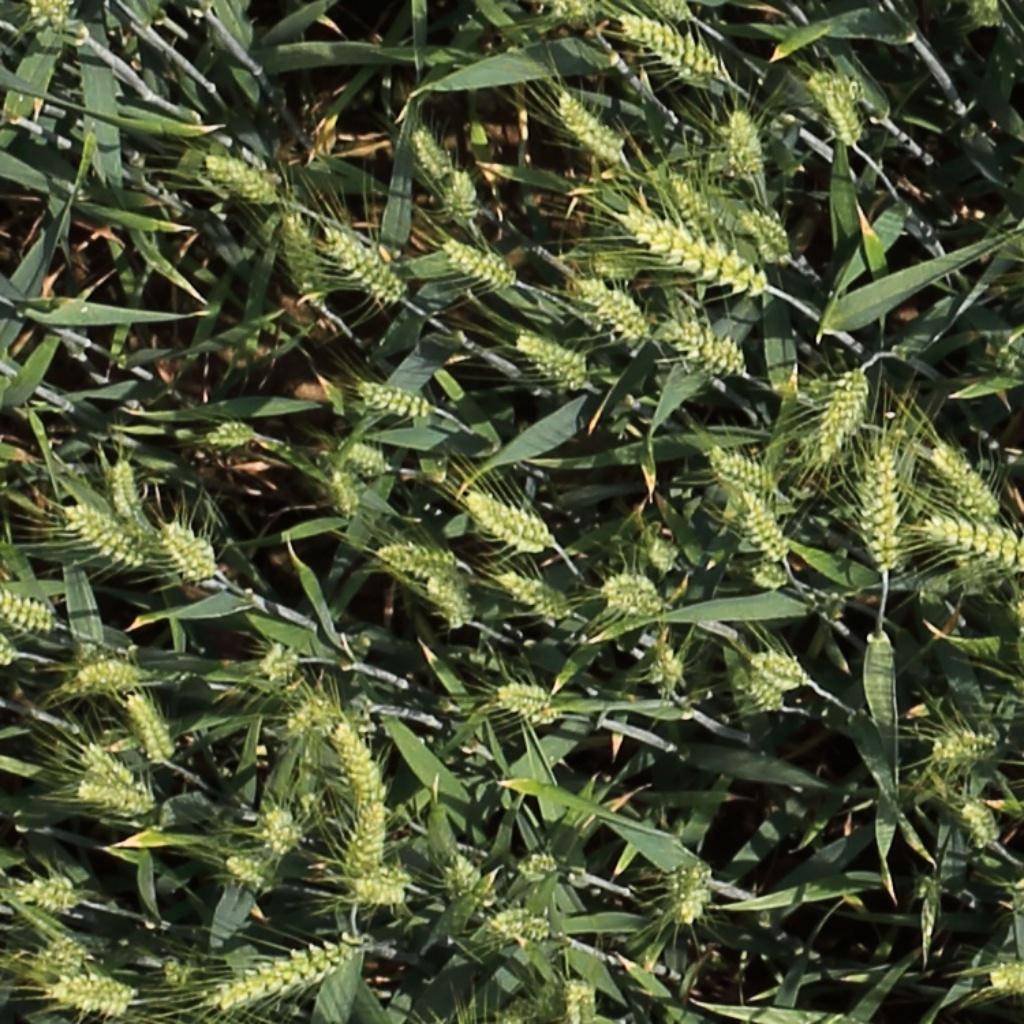0-0: (598, 195, 742, 290), (215, 944, 357, 1010), (625, 16, 749, 88), (369, 531, 475, 600), (321, 220, 405, 298), (855, 438, 902, 570), (938, 442, 1009, 523), (806, 64, 900, 124), (555, 86, 629, 162), (816, 363, 869, 468), (331, 719, 386, 820), (466, 486, 551, 551), (666, 166, 734, 243), (278, 204, 330, 303), (64, 505, 148, 565), (340, 790, 399, 875), (663, 318, 748, 375), (739, 475, 794, 560), (121, 688, 177, 770), (576, 277, 651, 338), (54, 964, 140, 1017), (925, 518, 1022, 563), (431, 847, 496, 914), (529, 965, 601, 1024), (594, 560, 664, 615), (157, 522, 217, 582), (204, 151, 277, 200), (442, 237, 514, 286), (517, 333, 589, 382), (822, 77, 869, 151), (630, 633, 691, 690), (287, 701, 368, 743), (79, 742, 141, 795), (498, 573, 572, 617), (740, 203, 794, 263), (486, 904, 562, 945), (409, 120, 457, 184), (868, 628, 897, 733), (421, 571, 470, 631), (729, 99, 765, 180), (356, 380, 434, 417), (36, 936, 97, 982), (350, 863, 415, 905), (716, 453, 782, 494), (14, 873, 87, 910), (922, 723, 991, 762), (959, 797, 1003, 857), (673, 861, 711, 929), (32, 0, 91, 43), (75, 785, 157, 815), (260, 802, 301, 862), (326, 461, 364, 525), (738, 670, 789, 716), (495, 690, 562, 724), (0, 588, 54, 629), (75, 656, 144, 688), (111, 451, 141, 524), (446, 161, 477, 223), (753, 656, 811, 688), (335, 442, 390, 473), (751, 557, 793, 594), (207, 416, 258, 445), (223, 857, 271, 887), (970, 1, 1004, 31), (554, 1, 595, 25), (0, 629, 23, 671), (656, 0, 694, 23), (989, 968, 1024, 989), (515, 853, 563, 863)
